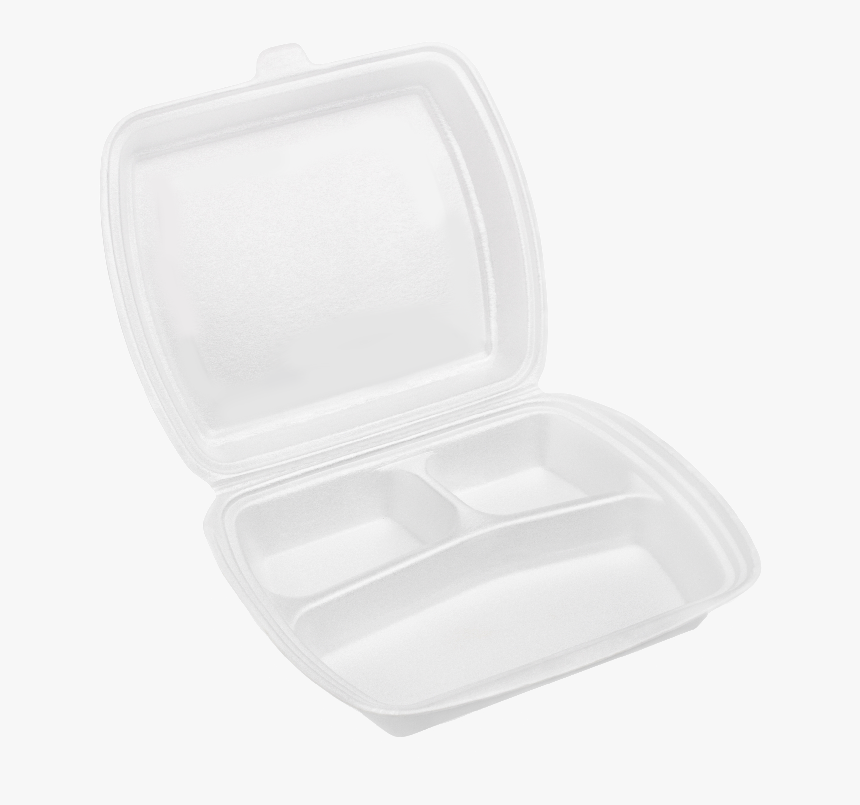Foam Box: (87, 33, 771, 744)
